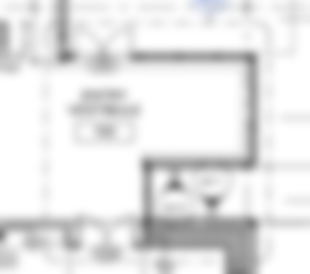double door: (76, 213, 138, 248), (72, 27, 135, 58)
